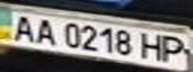0: (57, 20, 81, 51)
1: (97, 25, 118, 54)
2: (78, 23, 100, 53)
8: (115, 27, 139, 57)
A: (6, 12, 39, 43), (30, 16, 60, 46)
H: (136, 30, 169, 62)
P: (157, 34, 193, 65)
